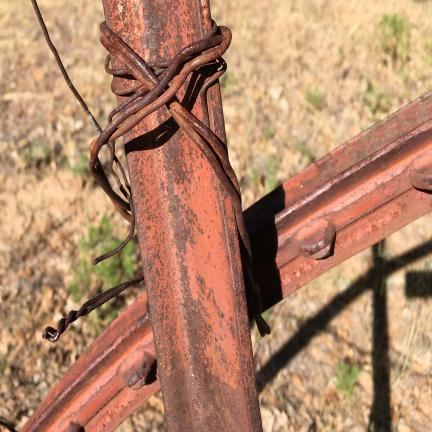karat: (125, 72, 261, 431), (245, 94, 431, 309), (21, 293, 159, 431), (98, 22, 232, 149), (167, 55, 249, 244), (86, 136, 136, 226)
